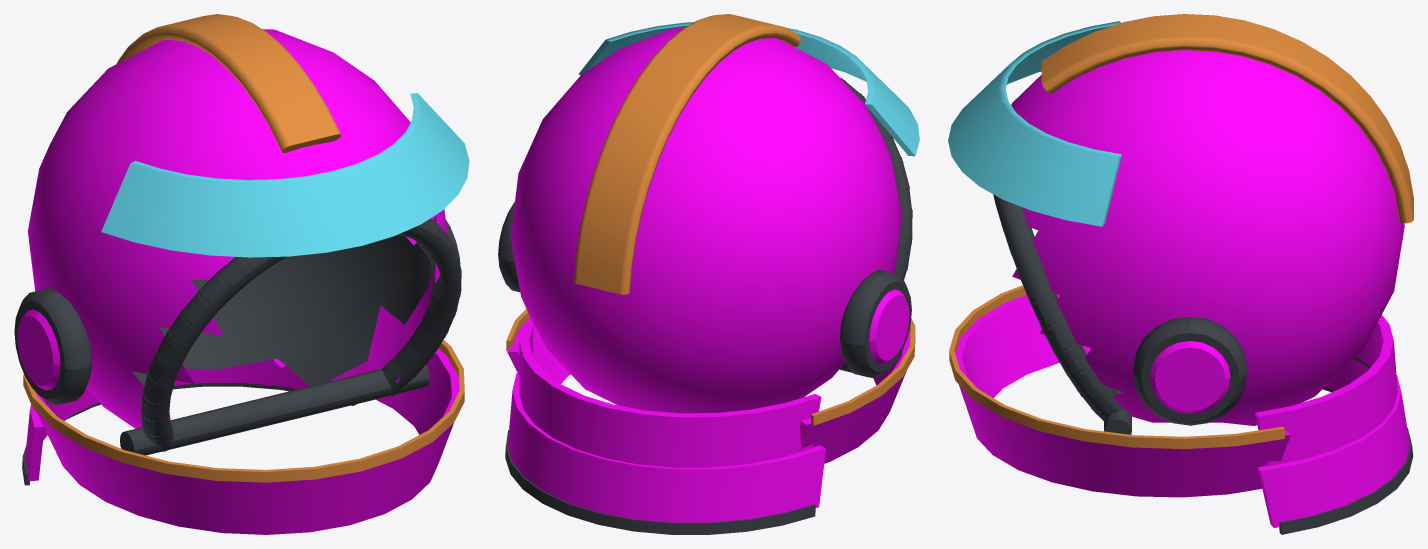
Rendered from porte_armure3_casque.glb.
3 views of the same model, side by side, from view 1: azimuth 30°, elevation 25°; view 2: azimuth 150°, elevation 25°; view 3: azimuth 270°, elevation 25° (orthographic). The views are drawn at different scales.
Visible parts, largest first — view 1: tete__casque_teinte.006, tete__casque_teinte_sombre.006, tete__casque_visiere.002, tete__casque_composite_bande.002; view 2: tete__casque_teinte.006, tete__casque_composite_bande.002, tete__casque_teinte_sombre.006, tete__casque_visiere.002; view 3: tete__casque_teinte.006, tete__casque_composite_bande.002, tete__casque_visiere.002, tete__casque_teinte_sombre.006.
Part boxes in pixels (box(x1,y1,x2,y2)): tete__casque_teinte.006: box(17, 29, 459, 534); tete__casque_teinte_sombre.006: box(14, 219, 461, 485); tete__casque_visiere.002: box(101, 93, 469, 257); tete__casque_composite_bande.002: box(23, 14, 464, 482); tete__casque_teinte.006: box(507, 28, 910, 522); tete__casque_composite_bande.002: box(506, 14, 915, 425); tete__casque_teinte_sombre.006: box(498, 77, 912, 534); tete__casque_visiere.002: box(578, 22, 919, 156); tete__casque_teinte.006: box(955, 50, 1409, 527); tete__casque_composite_bande.002: box(949, 14, 1413, 449); tete__casque_visiere.002: box(948, 21, 1121, 226); tete__casque_teinte_sombre.006: box(993, 194, 1413, 534).
Size of the model in its own units: 0.36 by 0.377 by 0.3693.
